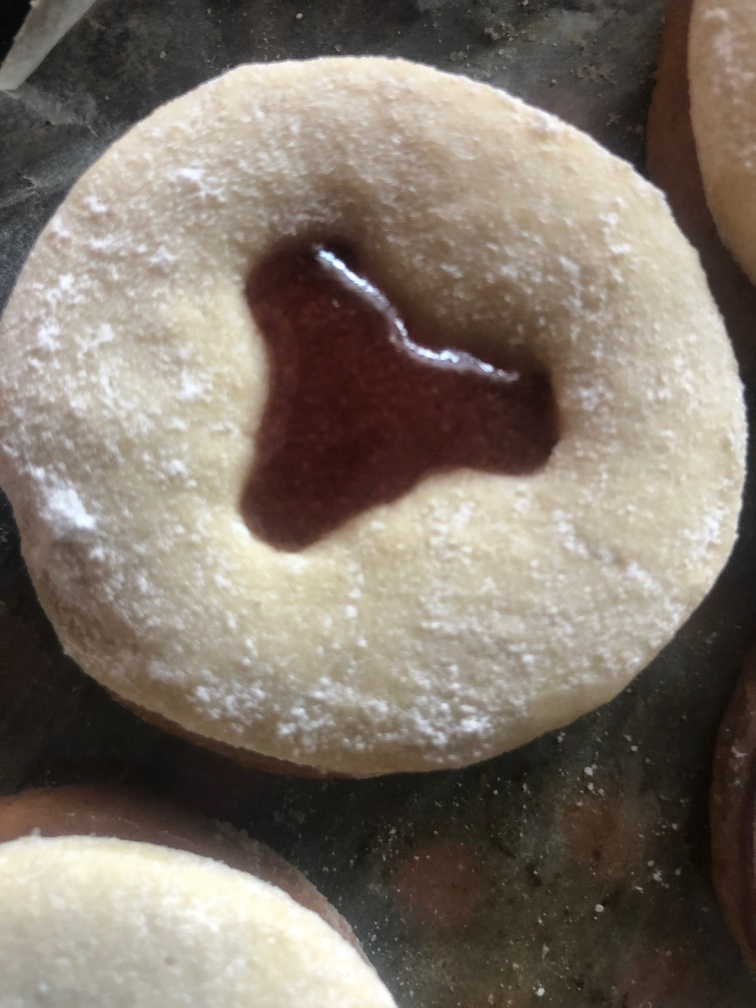christmas shortbread with jam: (4, 56, 746, 764)
